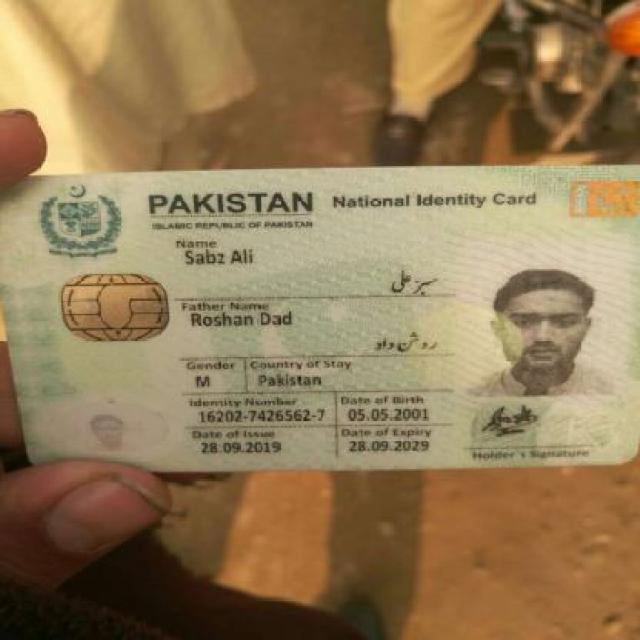Front: (3, 163, 637, 474)
